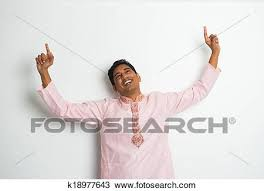Indian_Male: (108, 53, 135, 97)
